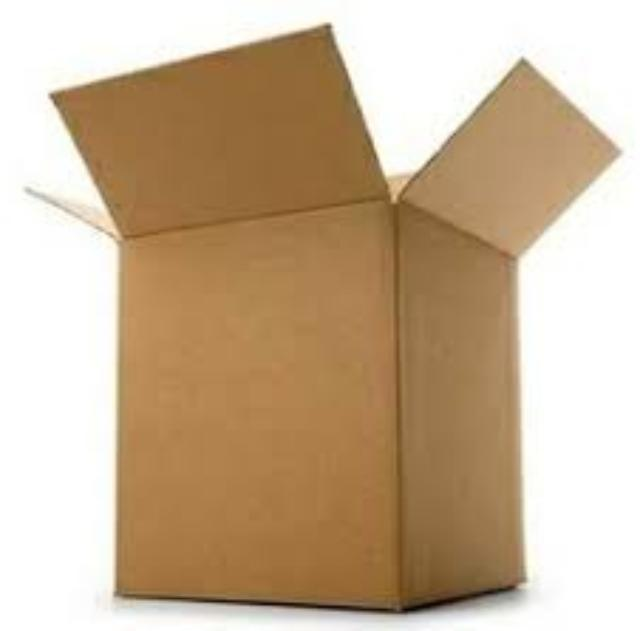cardboard paper: (51, 23, 612, 603)
